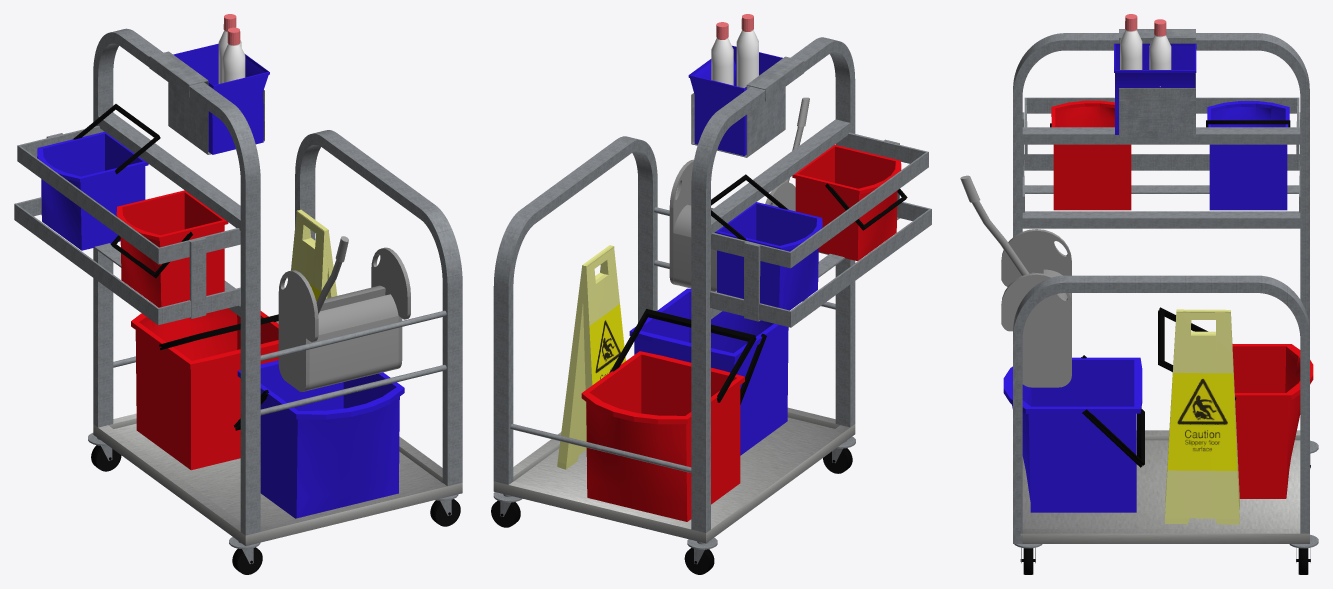
Rendered from cleaning_cart.FBX.
The picture shows the model from 3 angles, left to right: view 1: azimuth 30°, elevation 25°; view 2: azimuth 150°, elevation 25°; view 3: azimuth 270°, elevation 25°; orthographic projection. The views are drawn at different scales.
Parts seen in each view (by area): view 1: Rectangle002; view 2: Rectangle002; view 3: Rectangle002.
Boxes of the visible parts, left/top/right/bottom form: Rectangle002: left=14, top=14, right=462, bottom=574; Rectangle002: left=491, top=14, right=931, bottom=574; Rectangle002: left=960, top=14, right=1318, bottom=574.
Bounding box in the file's own units: 60.16 × 93.63 × 63.15.
13 materials, 4 textured.
